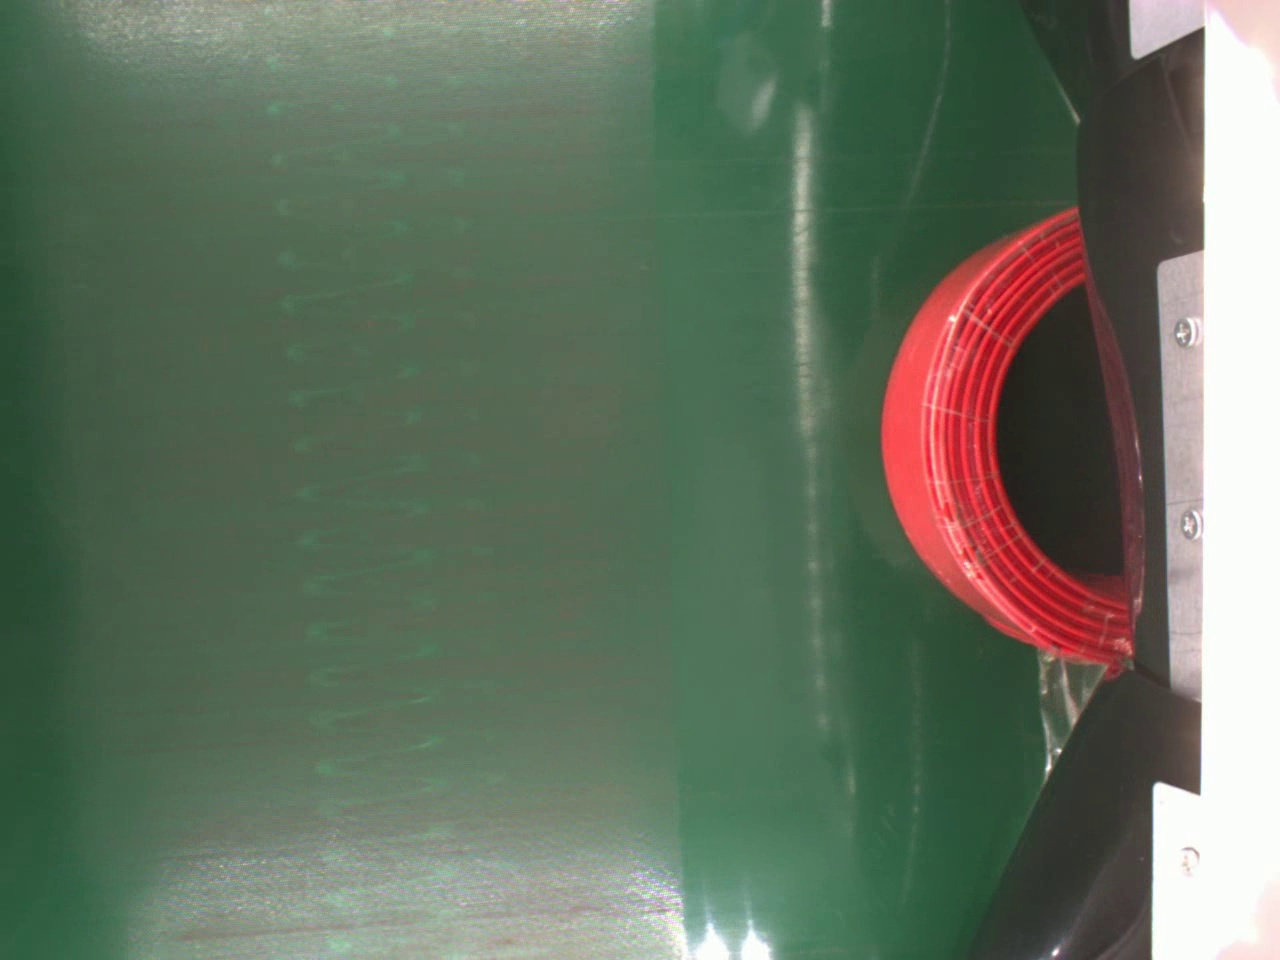red: (876, 205, 1134, 676)
